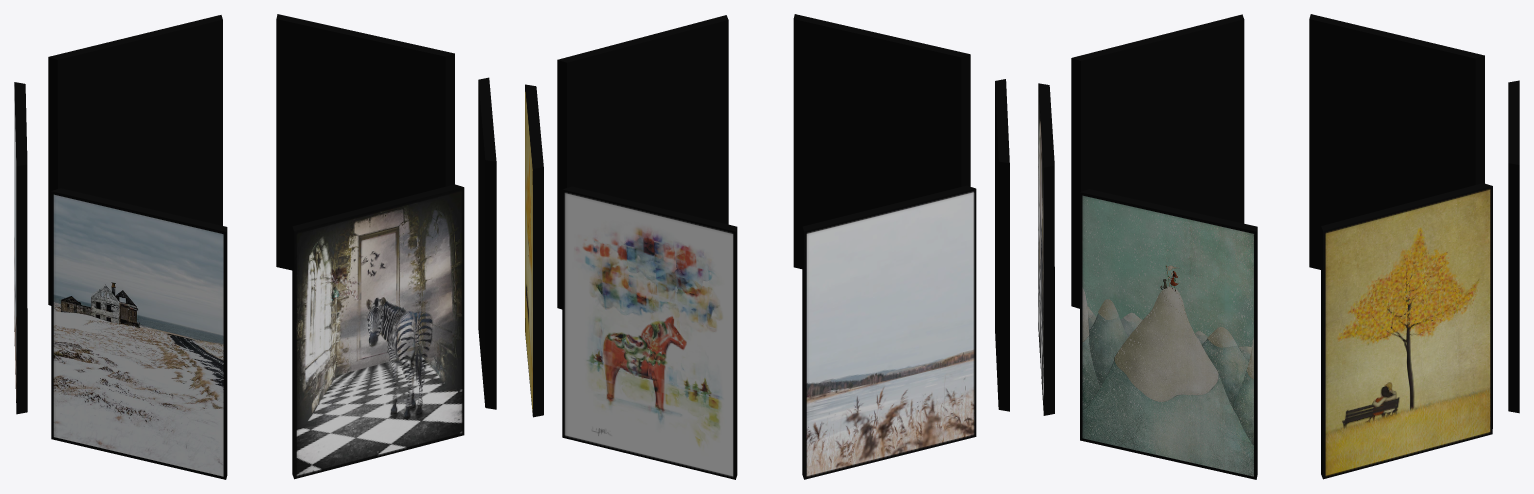
The model's file is Posters.gltf.
The picture shows the model from 3 angles, left to right: view 1: azimuth 30°, elevation 25°; view 2: azimuth 150°, elevation 25°; view 3: azimuth 270°, elevation 25°; orthographic projection.
Visible parts, largest first — view 1: imagination-loa-1_360x; view 2: imagination-loa-1_360x; view 3: imagination-loa-1_360x.
Boxes of the visible parts, x1,y1,x2,y2 form: imagination-loa-1_360x: [14, 14, 496, 479]; imagination-loa-1_360x: [525, 14, 1009, 479]; imagination-loa-1_360x: [1038, 14, 1519, 479].
Size of the model in its own units: 1.88 by 1 by 1.76.
Materials: 7 (6 with a texture image).
